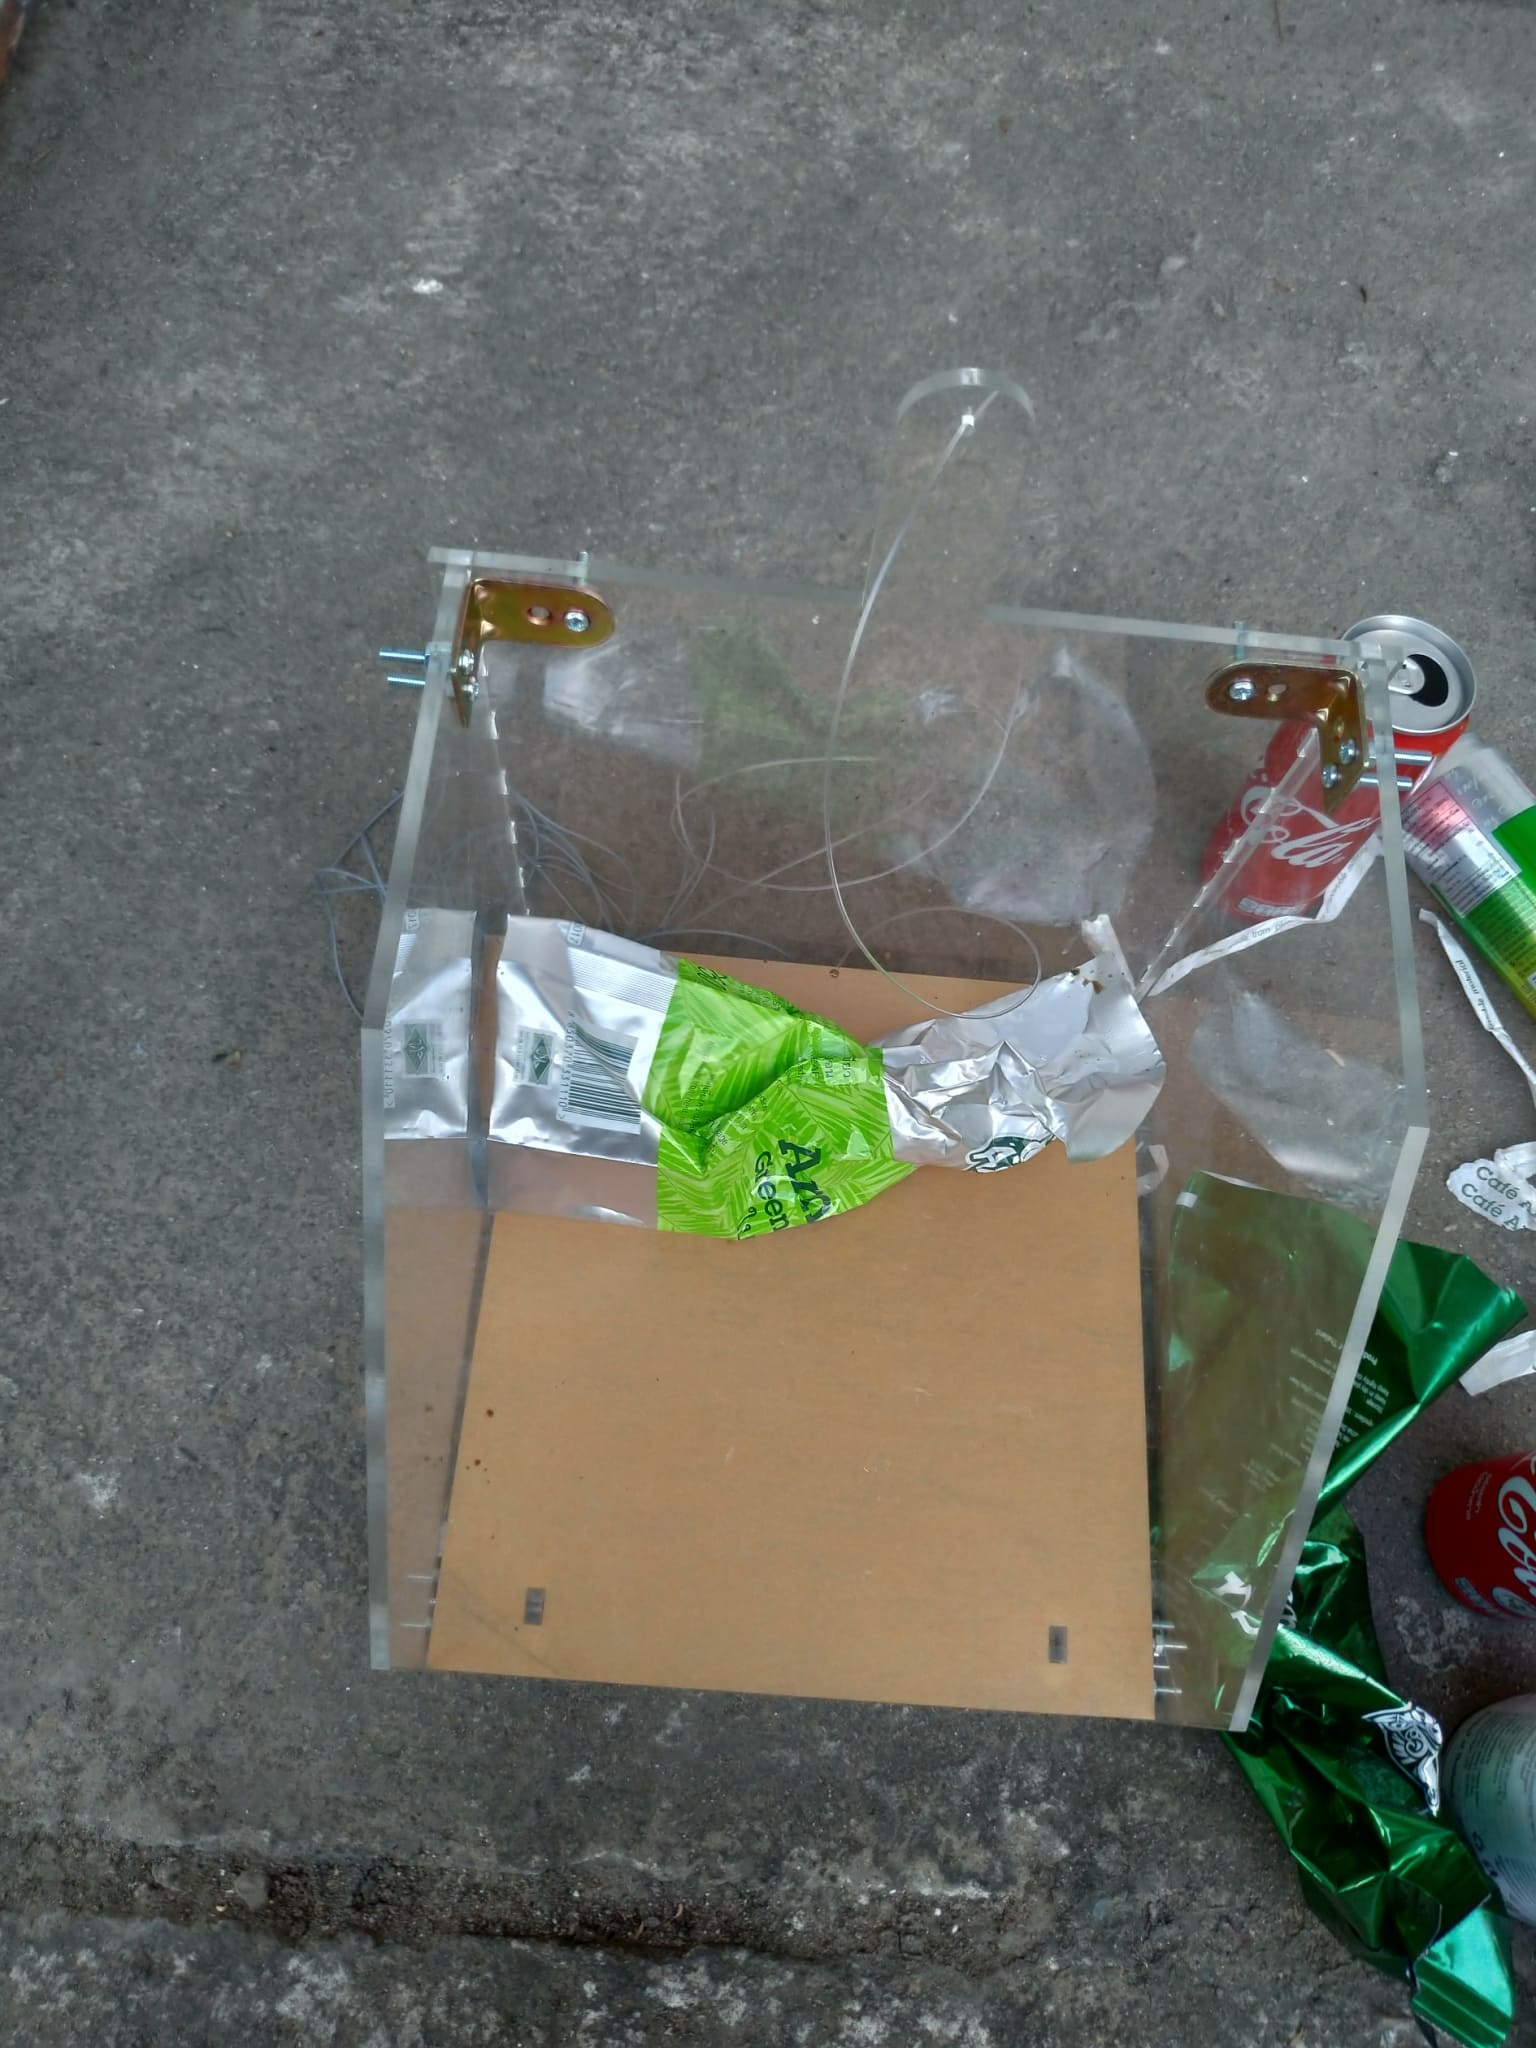AlCan: (1213, 601, 1480, 942), (1394, 719, 1536, 1000), (1421, 1471, 1536, 1609)
Others: (1147, 1168, 1530, 2042), (494, 898, 1154, 1227)
